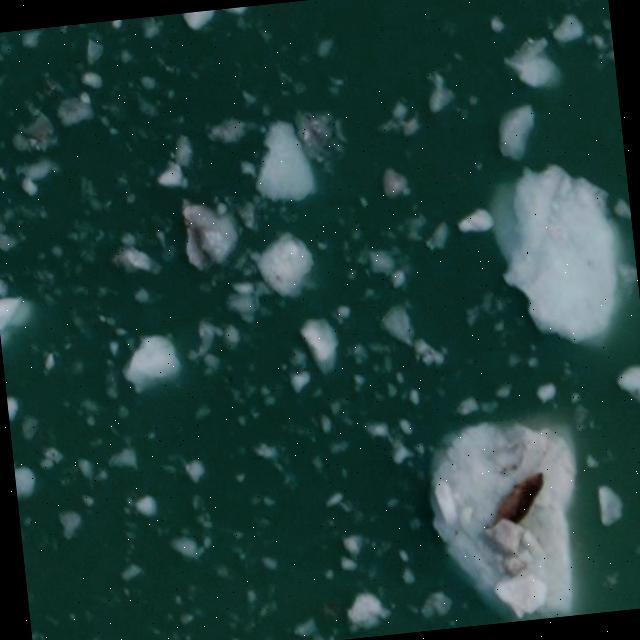seal: (482, 461, 550, 543)
